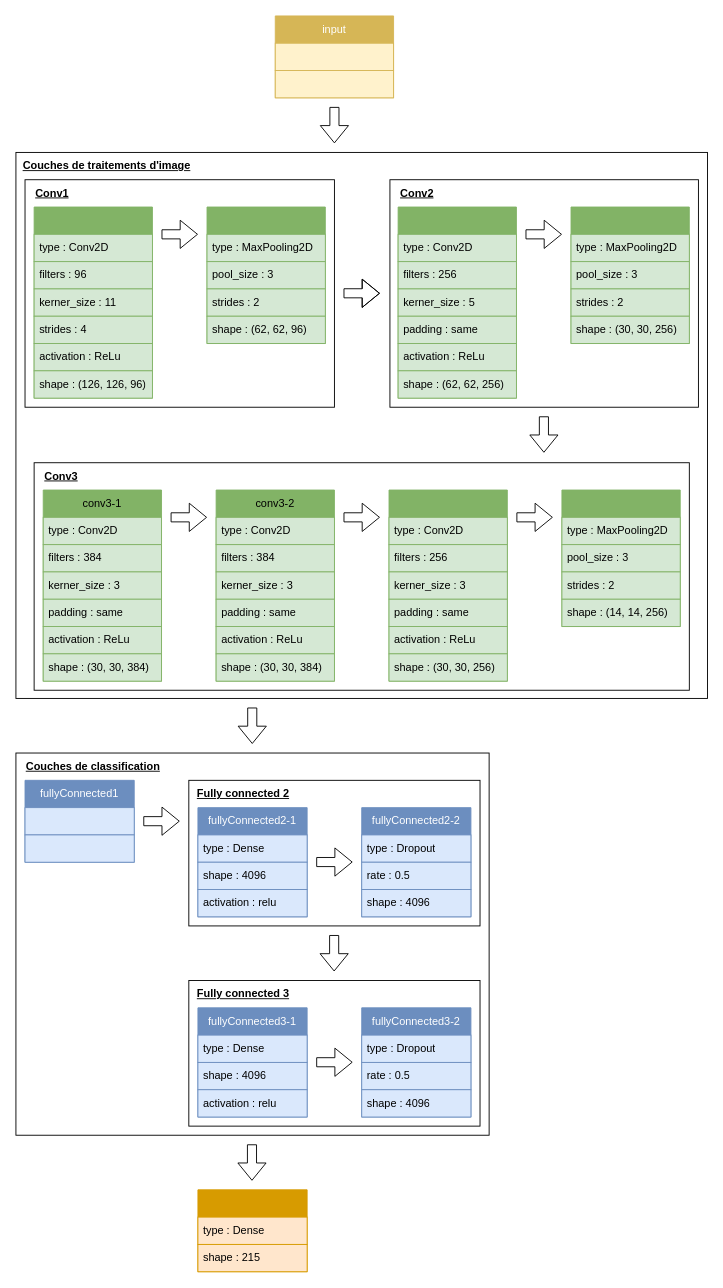
Some shapes in this 723 by 1288 pixel diagram are drawn without their labels. The shapes that lost their labels are listed below. From the top down, each one's box as (x1, y1, x2, y2) in pixels, then its label:
(274, 42, 394, 71): type : InputLayer
(274, 70, 394, 98): shape : (512, 512, 3)
(206, 206, 325, 344): conv1-2
(570, 206, 689, 344): conv2-2
(33, 206, 152, 398): conv1-1
(397, 206, 516, 398): conv2-1
(561, 489, 680, 627): conv3-4
(388, 489, 507, 681): conv3-3
(24, 807, 134, 835): type : Flatten
(24, 834, 134, 862): shape : 50176
(197, 1189, 307, 1272): output
